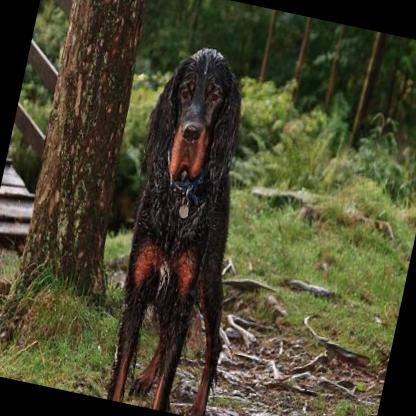Gordon_setter: (87, 35, 282, 416)
